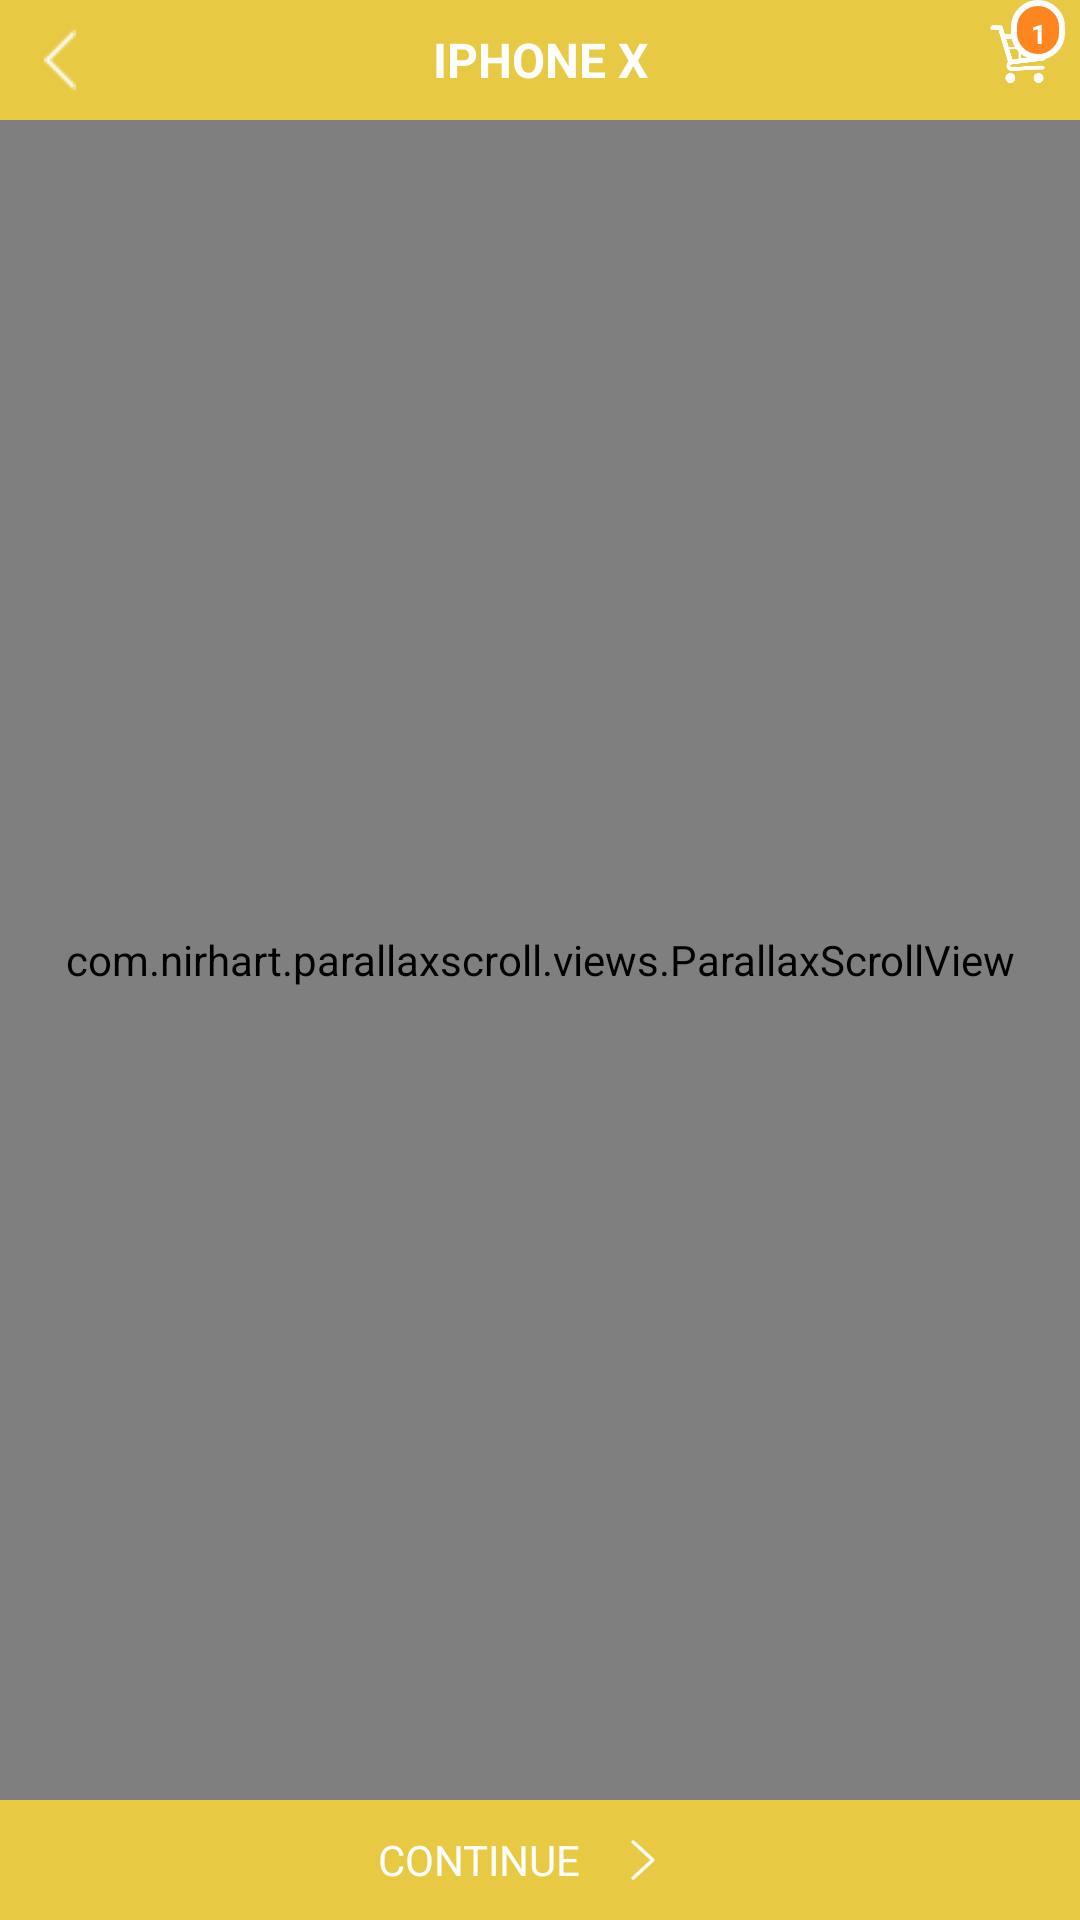

Screen size 1080 x 1920. Icon name, then its center in pixels as (x=x, y=y):
back: (x=60, y=60)
cart: (x=1027, y=41)
next: (x=643, y=1860)
